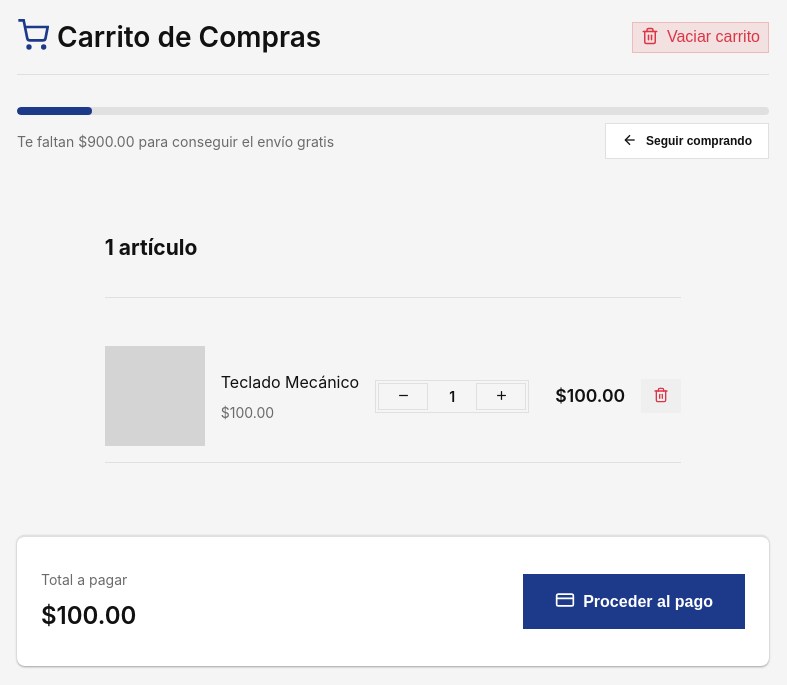
Test: Cart (página) › vaciar el carrito muestra el estado vacío
Click the button titled "Vaciar carrito".
click(700, 37)  # box 632,22 -> 769,52
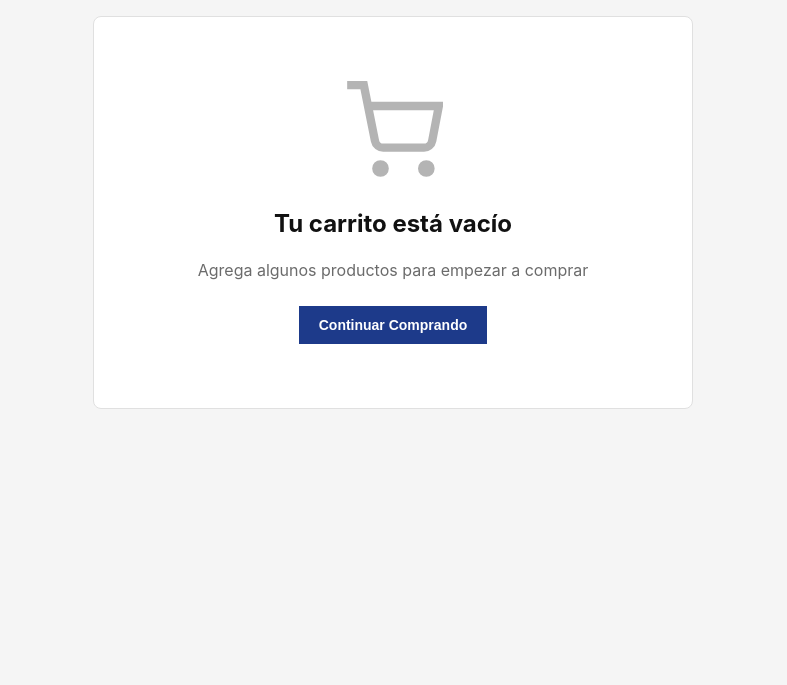
Now the element with test id "cart-empty" is shown, box 93,16 -> 693,409
